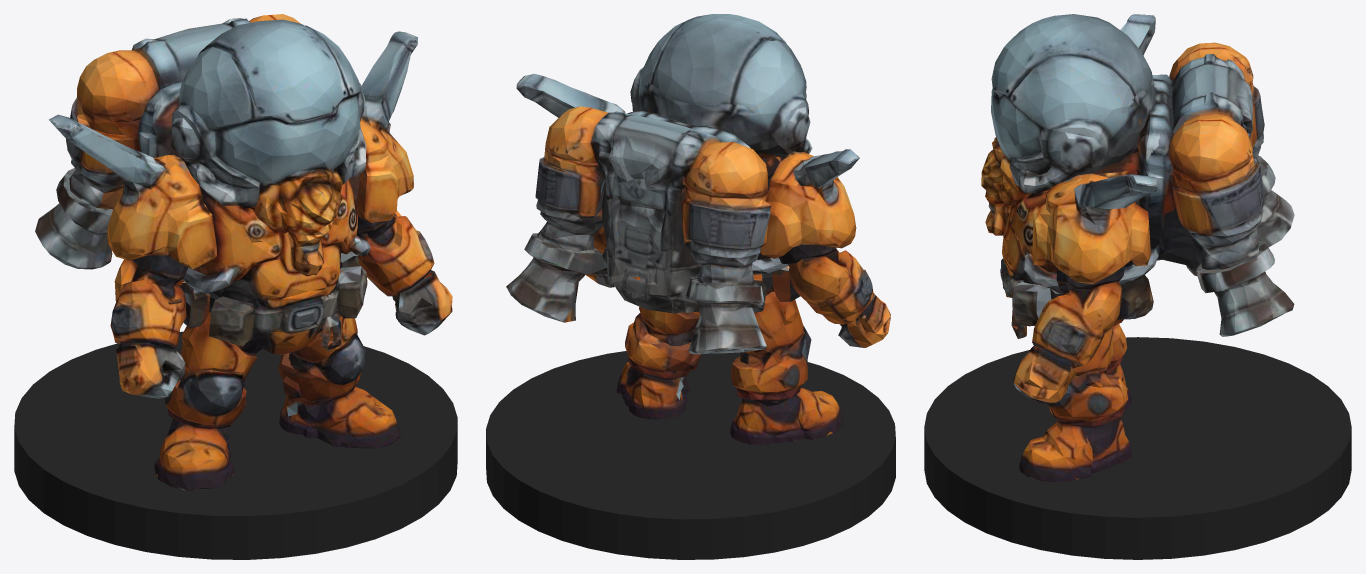
Rendered from hk-jump-pack-warrior.glb.
3 renders of one model, left to right at view 1: azimuth 30°, elevation 25°; view 2: azimuth 150°, elevation 25°; view 3: azimuth 270°, elevation 25°, orthographic. The views are drawn at different scales.
Visible parts, largest first — view 1: figure, base; view 2: figure, base; view 3: figure, base.
Part boxes in pixels (left/top/right/bottom): figure: left=35, top=14, right=452, bottom=490; base: left=14, top=331, right=457, bottom=559; figure: left=506, top=14, right=890, bottom=444; base: left=486, top=351, right=895, bottom=559; figure: left=981, top=14, right=1294, bottom=482; base: left=924, top=337, right=1351, bottom=559.
Bounding box in the file's own units: 1.1 × 1.27 × 1.1.
2 materials, 1 textured.
